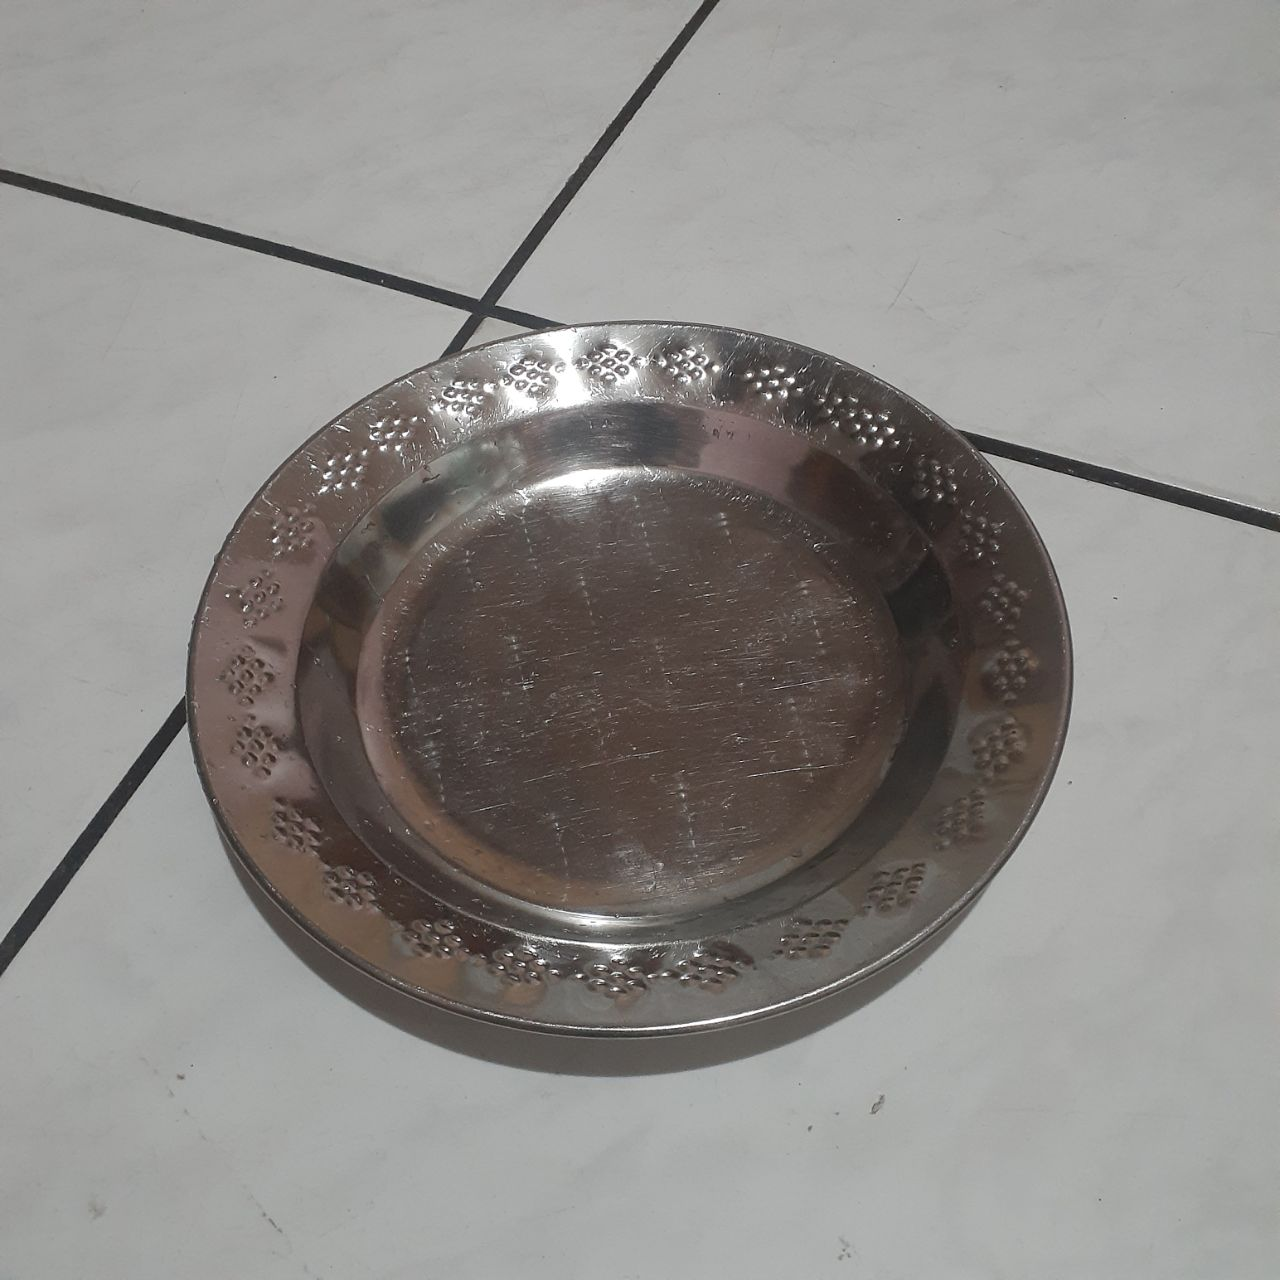piring: (178, 315, 1073, 1035)
